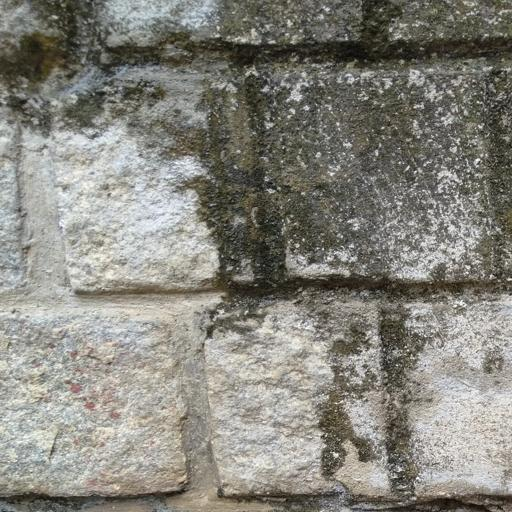algae: (2, 2, 512, 321)
